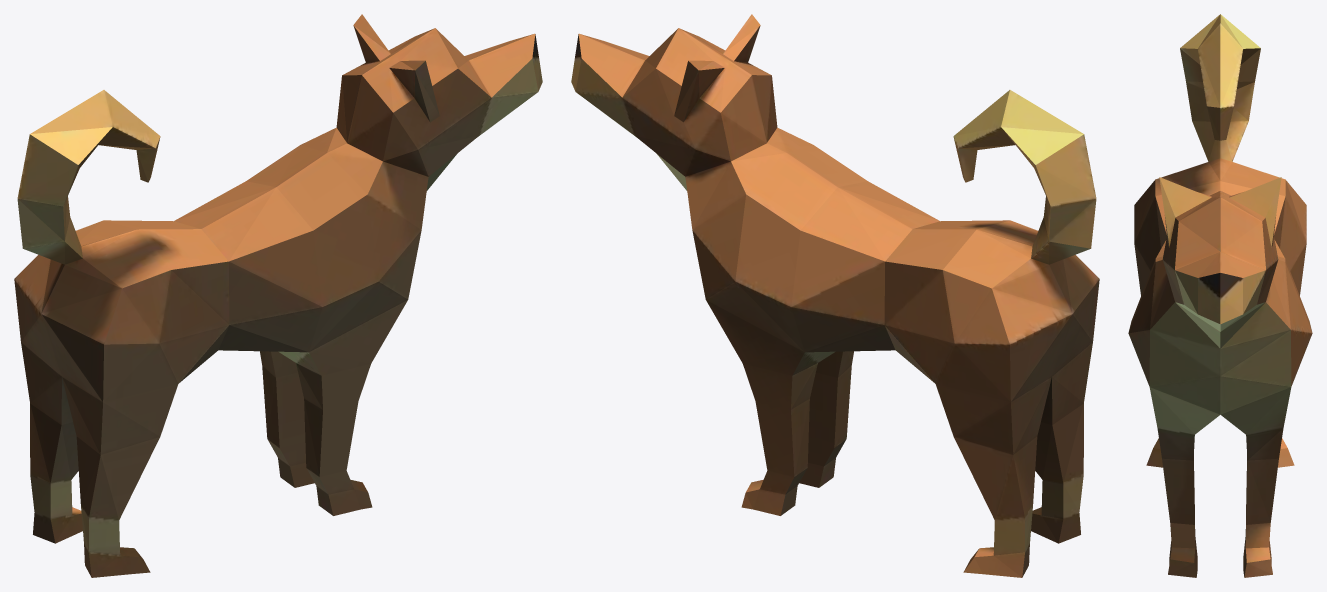
Rendered from 83Ha6EKTaOv.glb.
3 renders of one model, left to right at view 1: azimuth 30°, elevation 25°; view 2: azimuth 150°, elevation 25°; view 3: azimuth 270°, elevation 25°, orthographic. The views are drawn at different scales.
Visible parts, largest first — view 1: dog_Icosphere.047; view 2: dog_Icosphere.047; view 3: dog_Icosphere.047.
Part boxes in pixels (x1=…): dog_Icosphere.047: x1=14, y1=14, x2=542, y2=577; dog_Icosphere.047: x1=571, y1=14, x2=1099, y2=577; dog_Icosphere.047: x1=1128, y1=14, x2=1312, y2=577.
Size of the model in its own units: 1.2 by 1 by 0.3806.
1 material, 1 textured.
